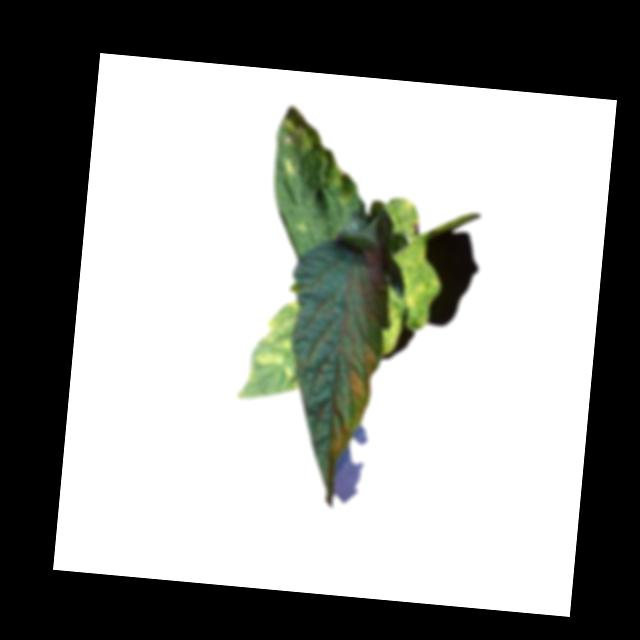Leaf_Mold: (269, 105, 354, 204), (379, 234, 443, 359), (248, 295, 303, 390), (343, 346, 378, 406), (322, 421, 351, 462)
